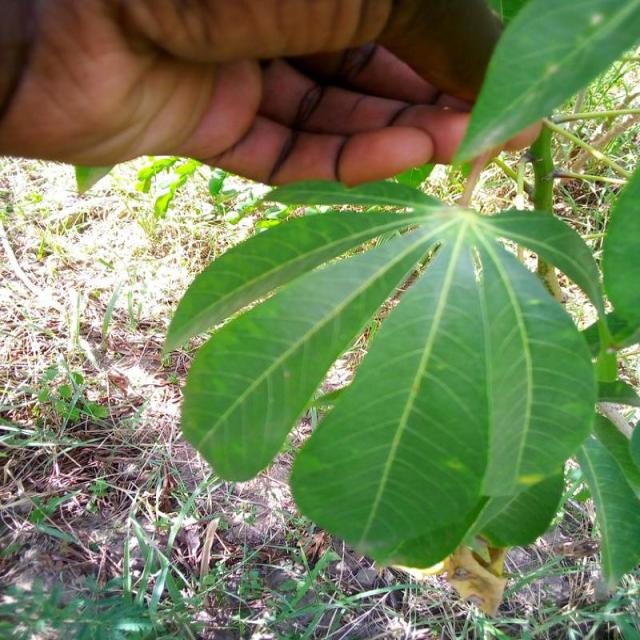cassava leaf: (287, 210, 598, 571), (178, 210, 445, 483), (450, 0, 638, 169)
